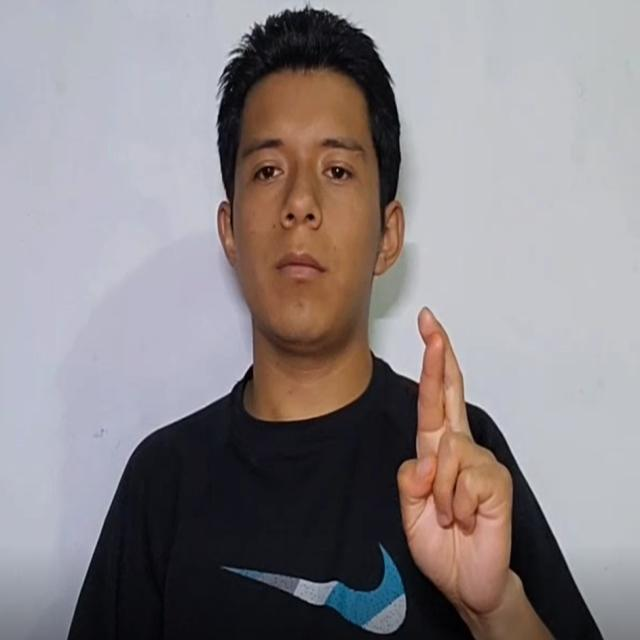R: (387, 278, 551, 614)
